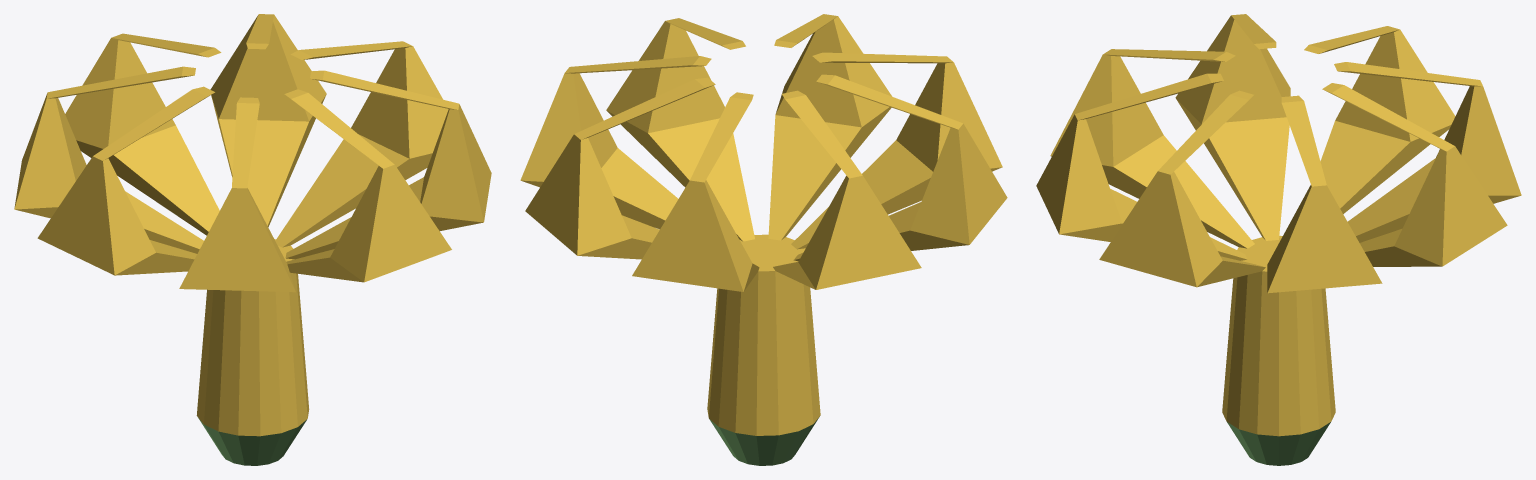
The model's file is Eagle.fbx.
The picture shows the model from 3 angles, left to right: view 1: azimuth 30°, elevation 25°; view 2: azimuth 150°, elevation 25°; view 3: azimuth 270°, elevation 25°; orthographic projection.
Parts seen in each view (by area): view 1: Cylinder.003; view 2: Cylinder.003; view 3: Cylinder.003.
Boxes of the visible parts, left/top/right/bottom form: Cylinder.003: left=14, top=14, right=491, bottom=465; Cylinder.003: left=520, top=14, right=1007, bottom=465; Cylinder.003: left=1036, top=14, right=1521, bottom=465.
Size of the model in its own units: 656 by 567 by 656.
